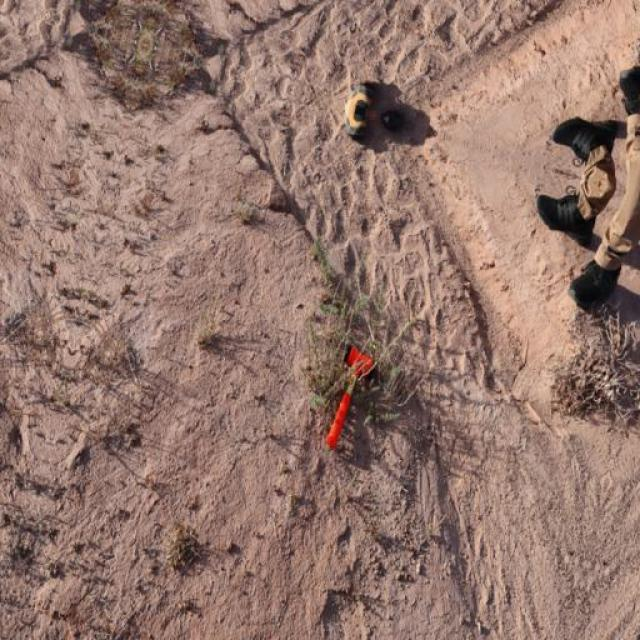mallet: (324, 345, 375, 450)
